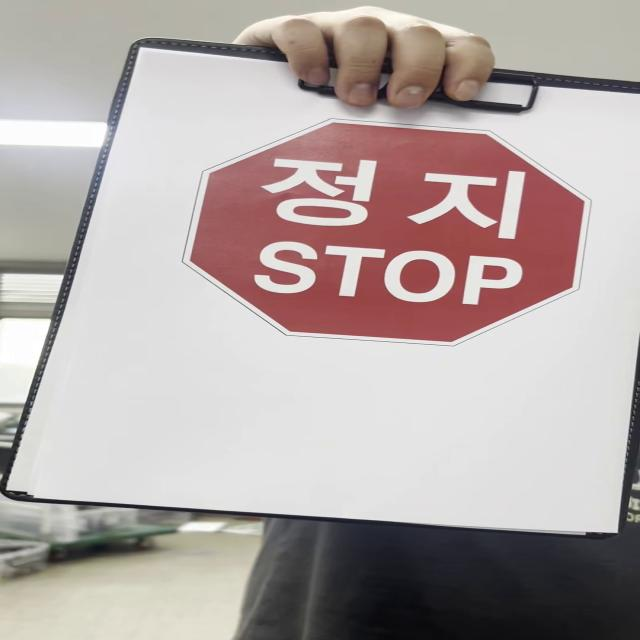stop: (182, 115, 596, 348)
